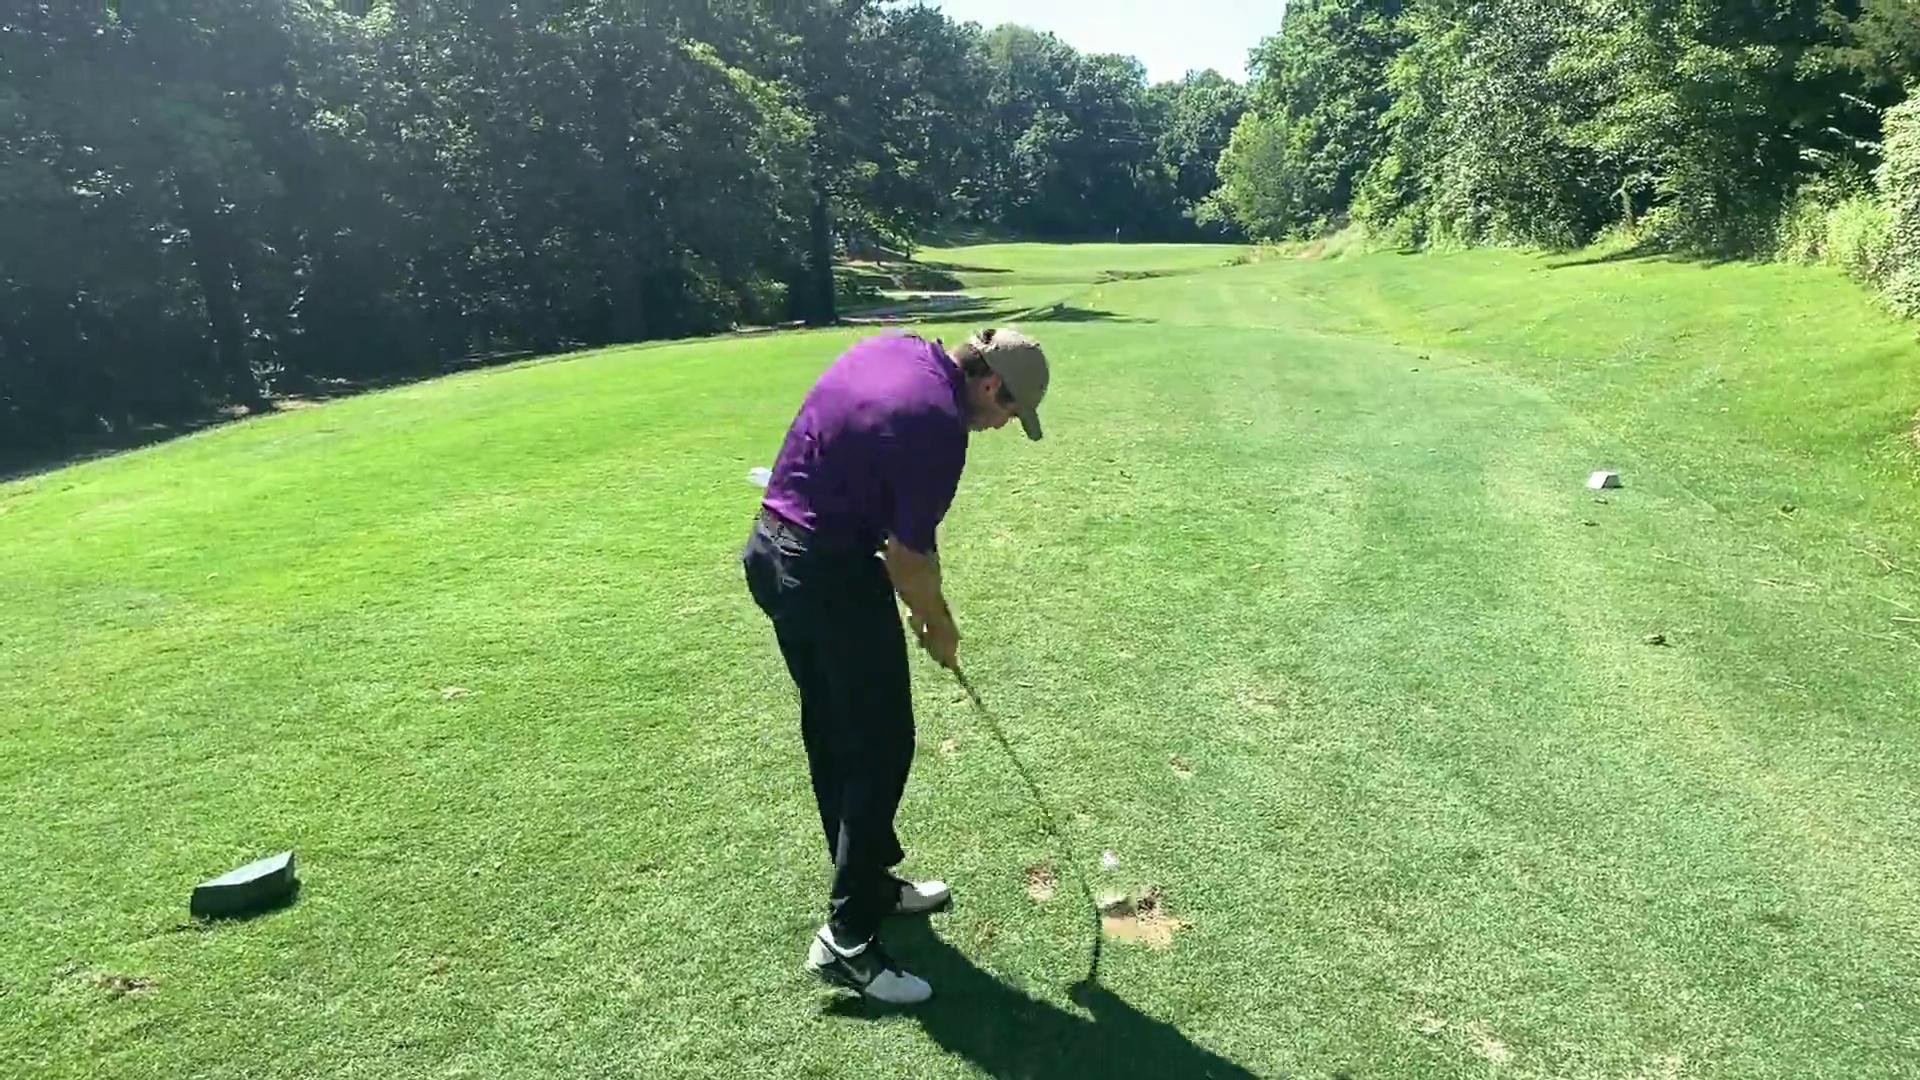ClubHead: (1089, 891, 1139, 920)
GolfBall: (1102, 851, 1121, 874)
